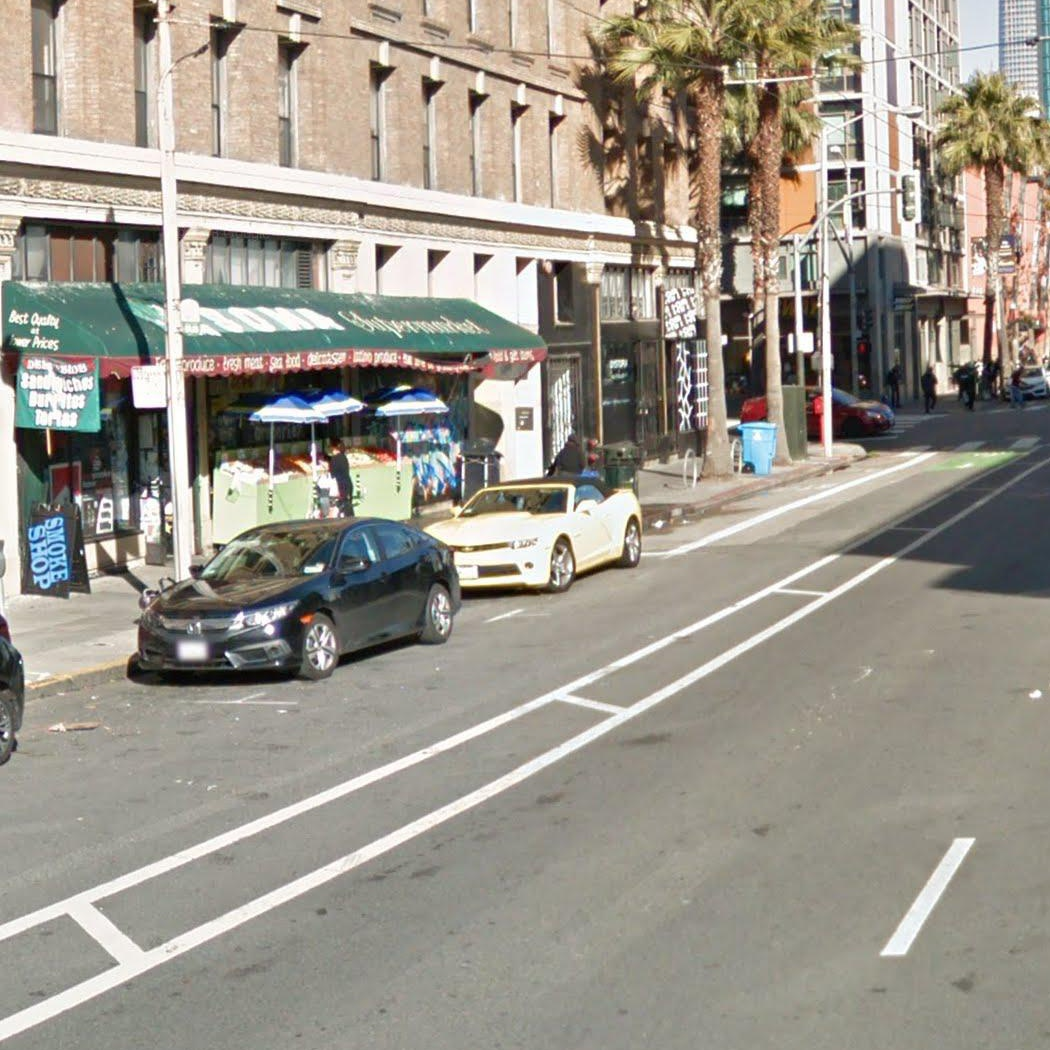No Parking: (132, 364, 170, 410)
